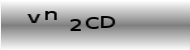2: (68, 18, 81, 31)
C: (85, 16, 99, 29)
D: (100, 15, 116, 29)
n: (44, 9, 57, 20)
v: (26, 12, 41, 24)
